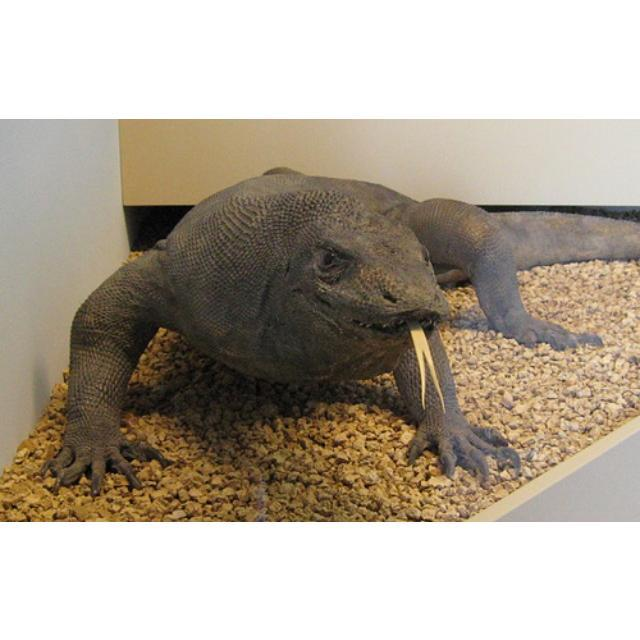KomodoDragon: (29, 162, 638, 499)
